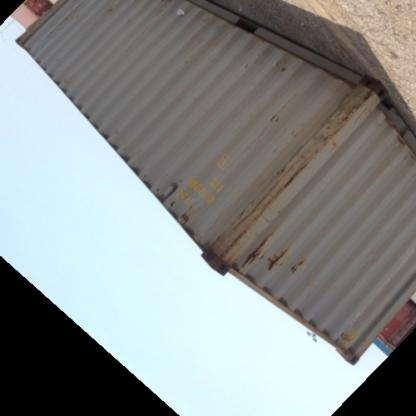Damage: (329, 80, 381, 134), (241, 242, 321, 277), (272, 150, 320, 202), (214, 206, 251, 252), (262, 92, 292, 132), (92, 2, 120, 27), (334, 327, 358, 356), (139, 179, 169, 201), (268, 57, 297, 76), (176, 207, 196, 232)
